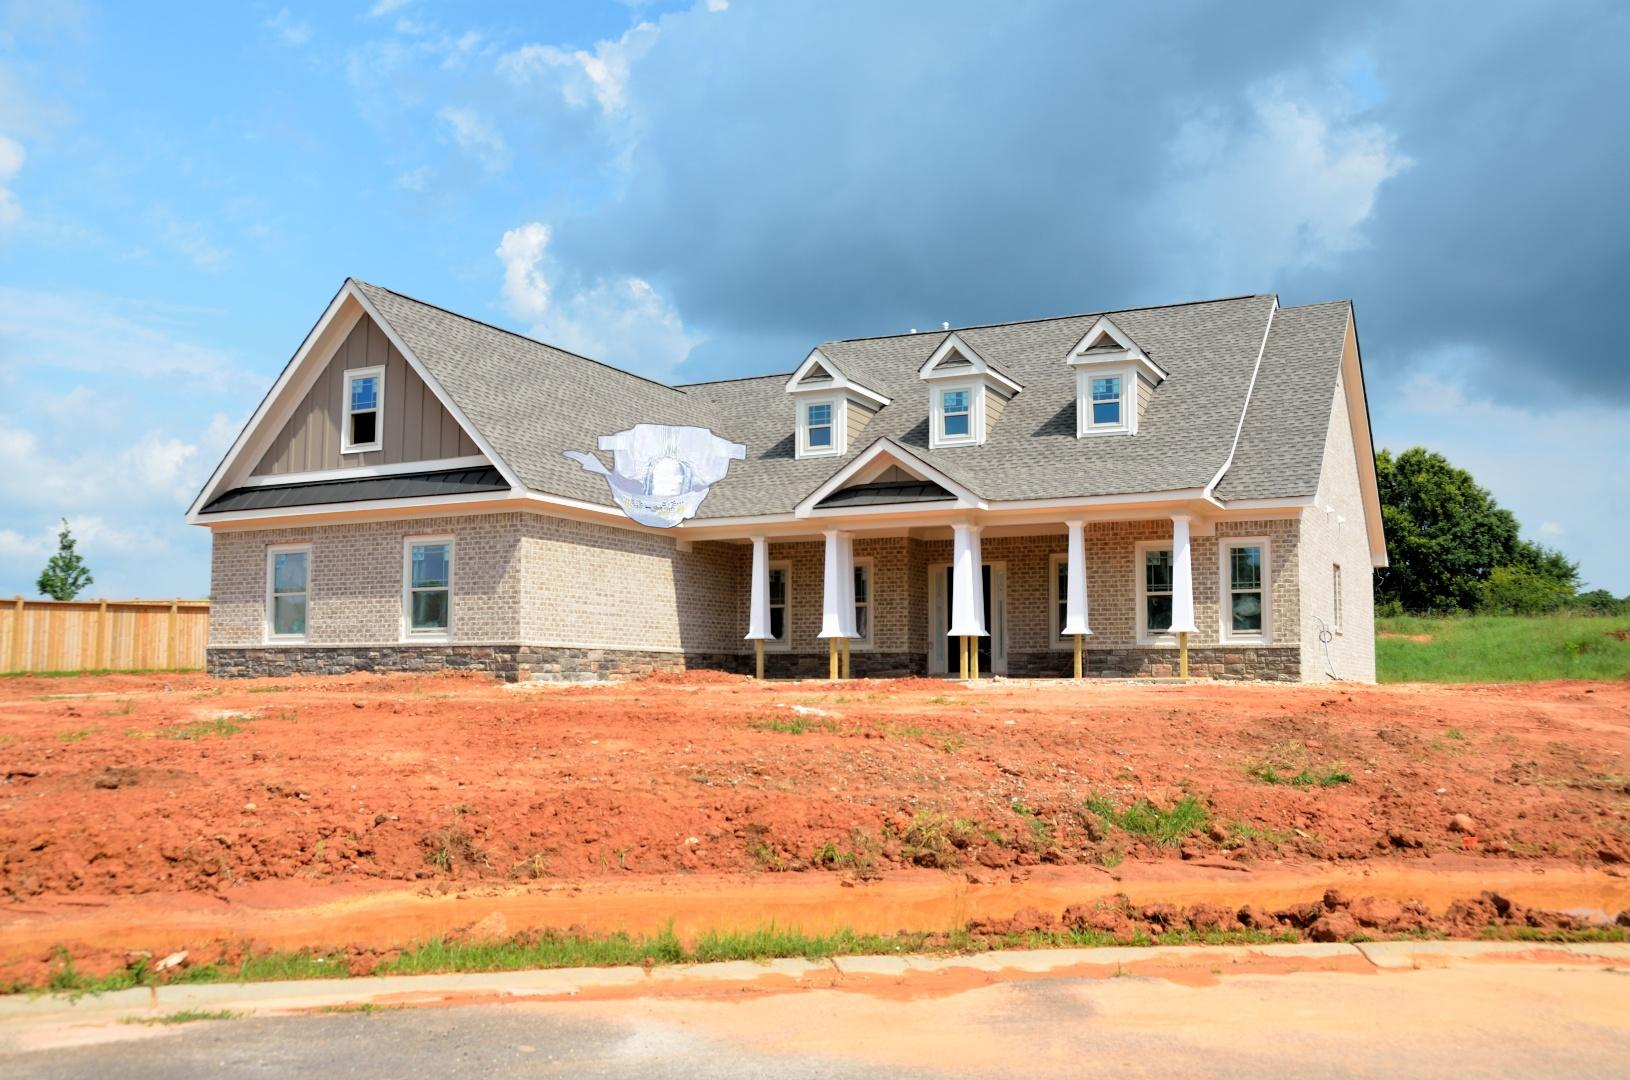trash: (557, 421, 749, 532)
